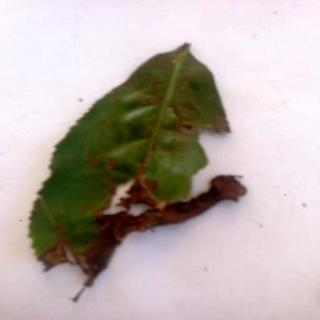Brown Blight: (27, 44, 249, 304)
